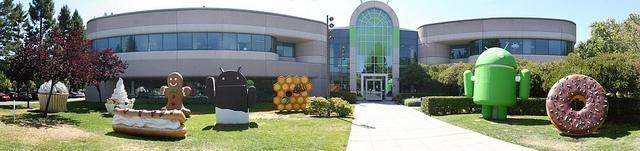car: (18, 92, 32, 100), (7, 91, 18, 100), (73, 90, 85, 98), (0, 93, 10, 100)
